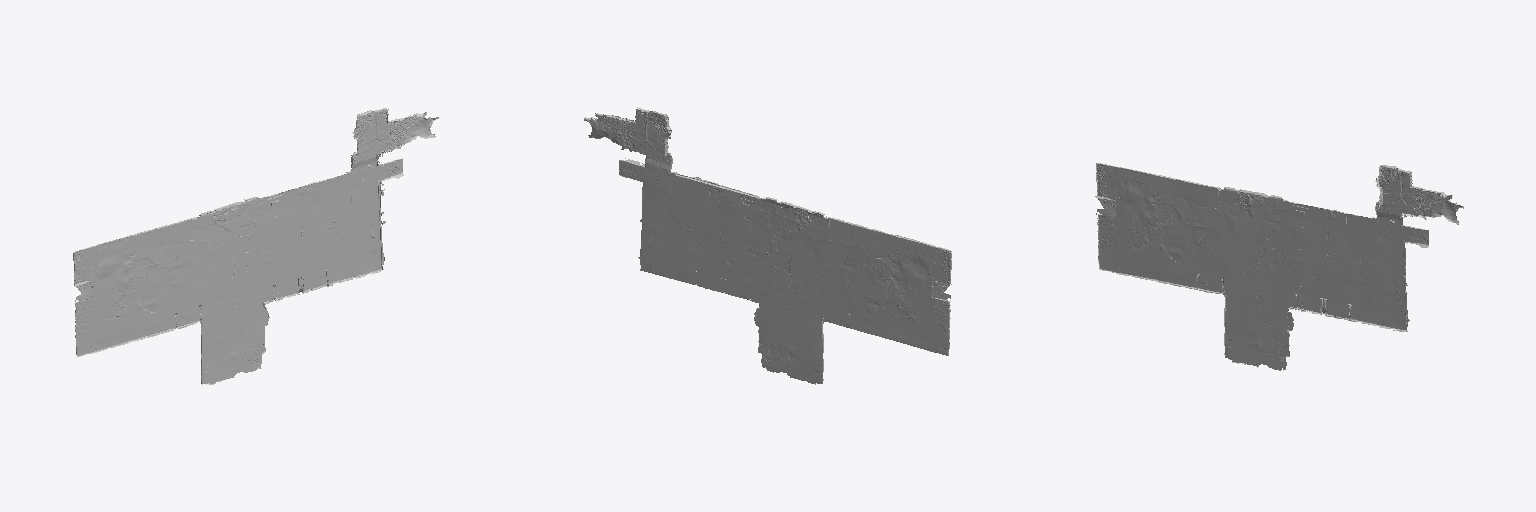
File: ThamesChaseThreshingBarnGround.obj
The picture shows the model from 3 angles: view 1: azimuth 30°, elevation 25°; view 2: azimuth 150°, elevation 25°; view 3: azimuth 330°, elevation 25°; orthographic projection.
Visible parts, largest first — view 1: ThamesChaseThreshingBarn02; view 2: ThamesChaseThreshingBarn02; view 3: ThamesChaseThreshingBarn02.
Part boxes in pixels (bbox=[...]): ThamesChaseThreshingBarn02: bbox=[73, 108, 438, 384]; ThamesChaseThreshingBarn02: bbox=[584, 107, 951, 384]; ThamesChaseThreshingBarn02: bbox=[1095, 163, 1463, 370].
Bounding box in the file's own units: 30.19 × 18.47 × 0.3905.